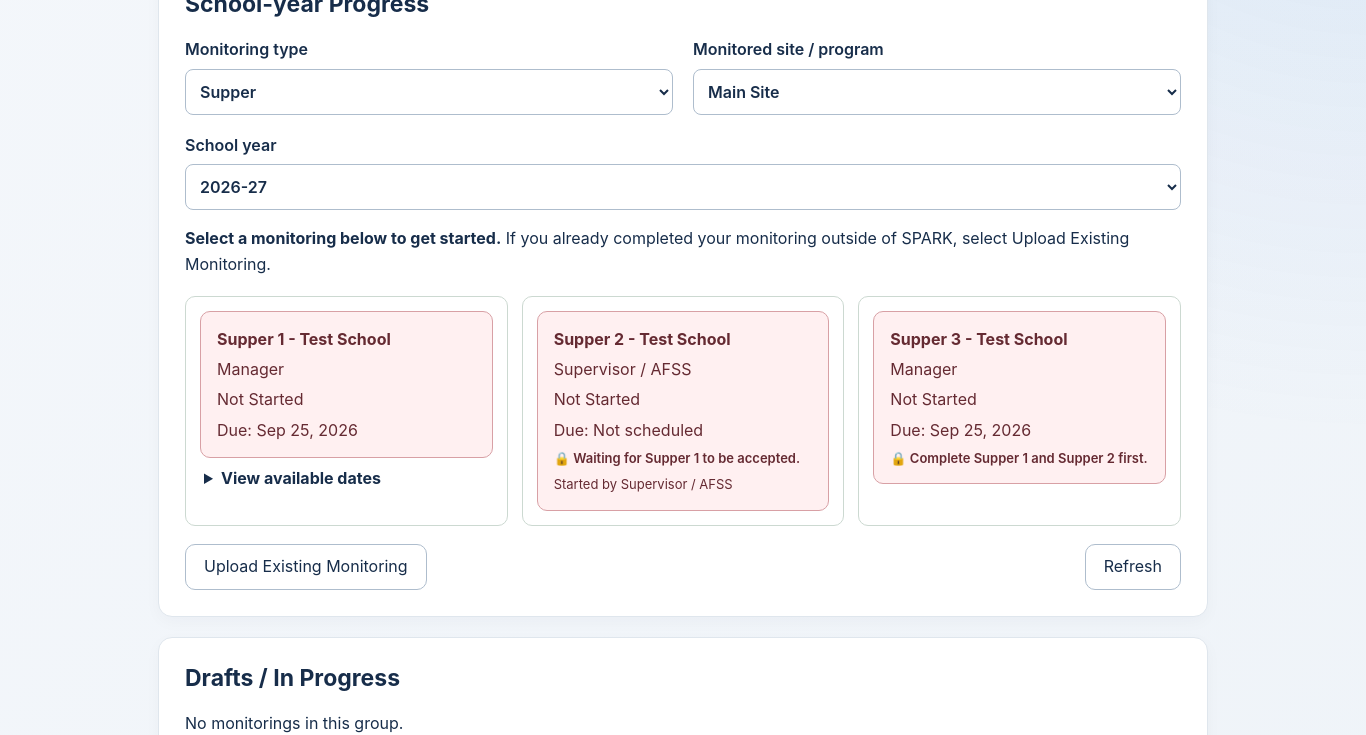
starts, saves, and resumes at the server's saved section
(page scrolled)
Click the button "Supper 1 - Test School Manager Not Started Due: Sep 25, 2026": (304, 339) [200,311,493,458]
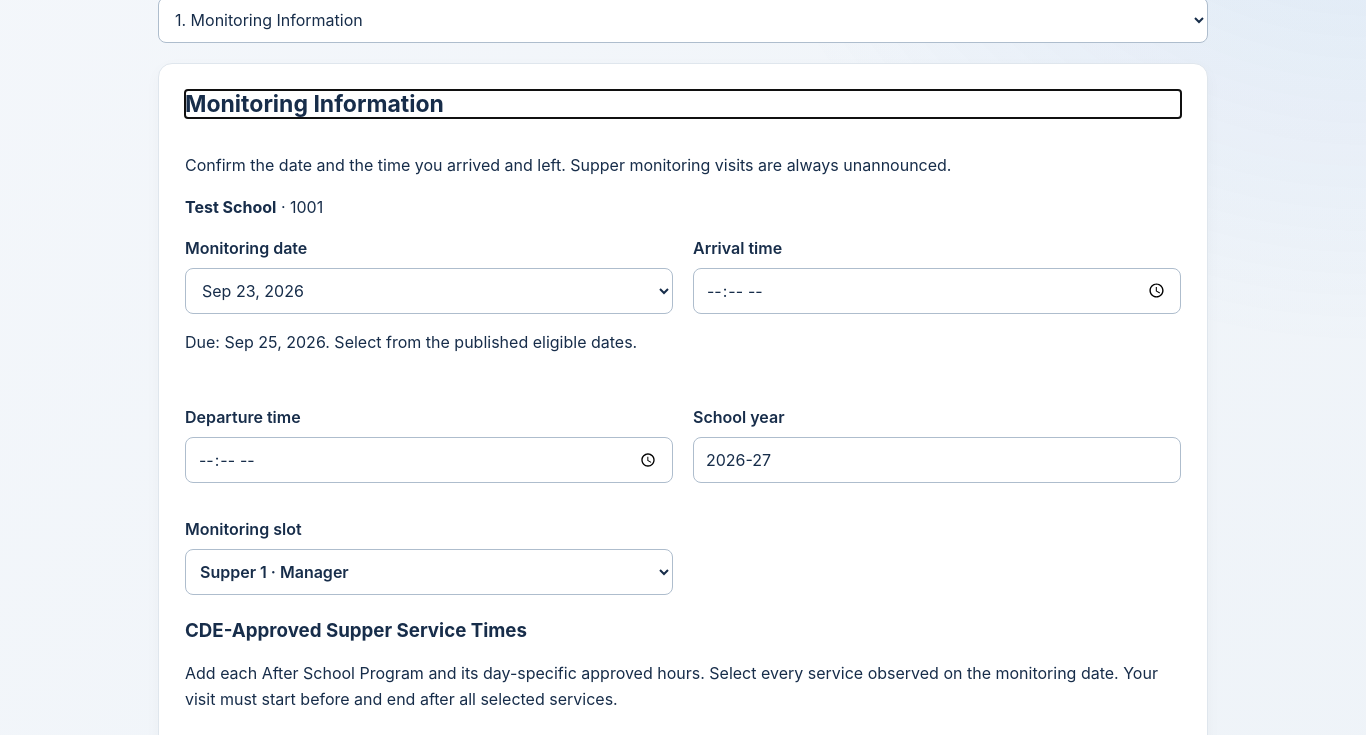
Select "Sep 23, 2026" in the dropdown with id "monitoringDate": (429, 291) [185,268,673,314]
(page scrolled)
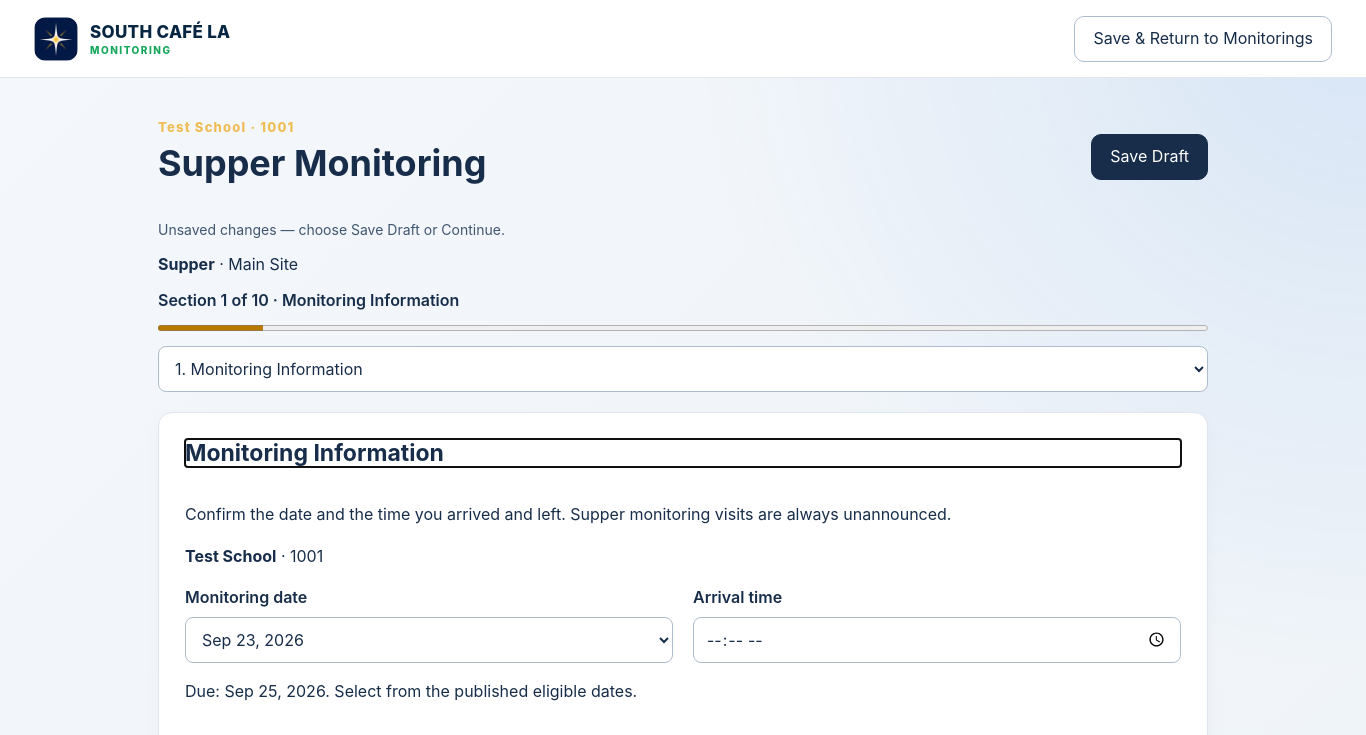
Expected: the button "Save Draft" is shown
Click the button "Save Draft": (1150, 156) [1091,134,1208,180]
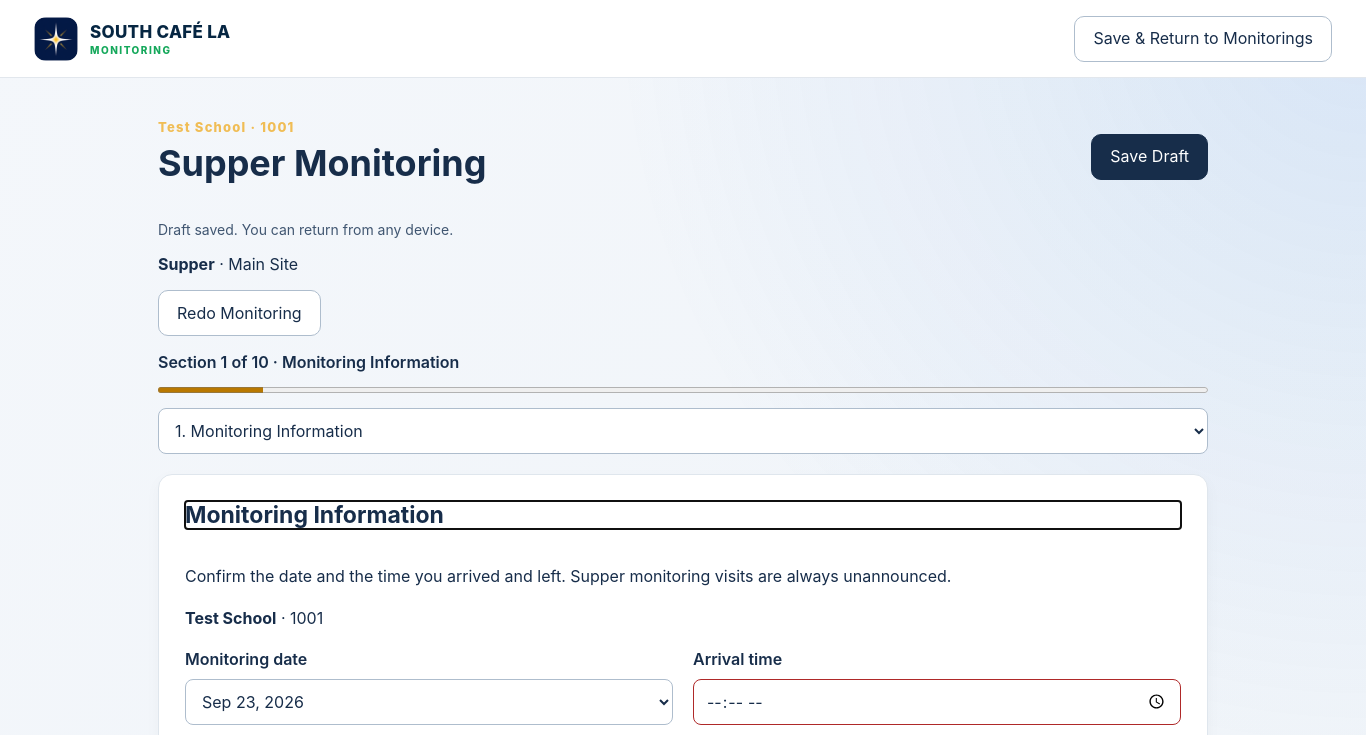
Click the button "Save & Return to Monitorings": (1203, 38) [1074,16,1332,62]
(page scrolled)
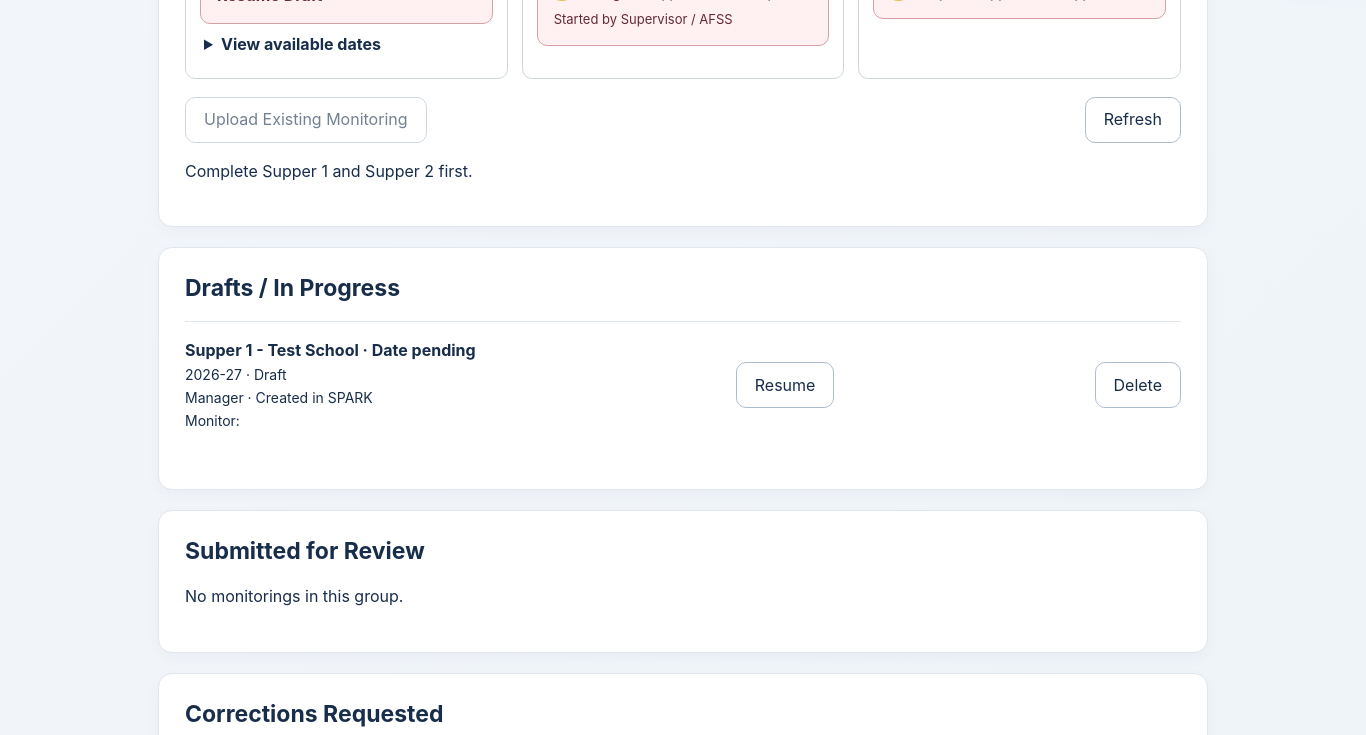
Expected: the button "Resume" is shown
Click the button "Resume": (785, 385) [736,362,834,408]
(page scrolled)
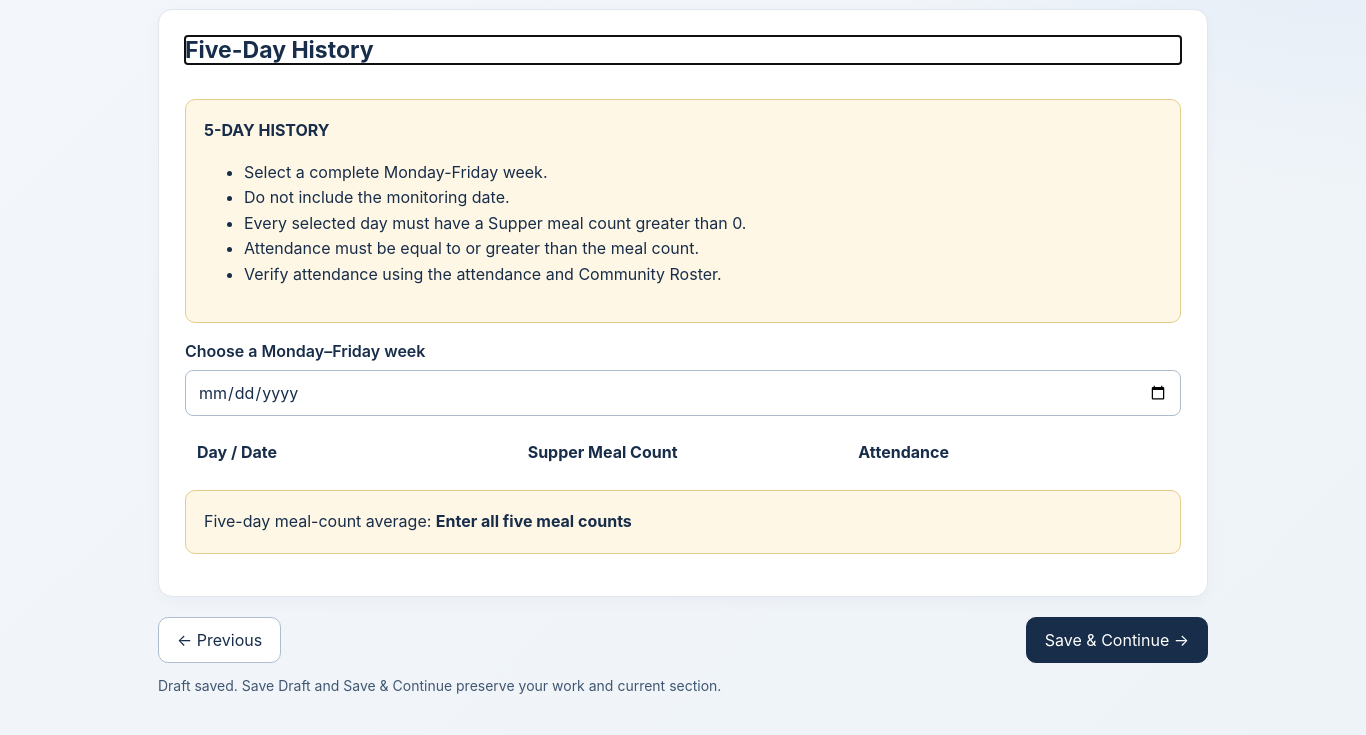
Expected: the heading "Five-Day History" is shown, [185,36,374,64]
